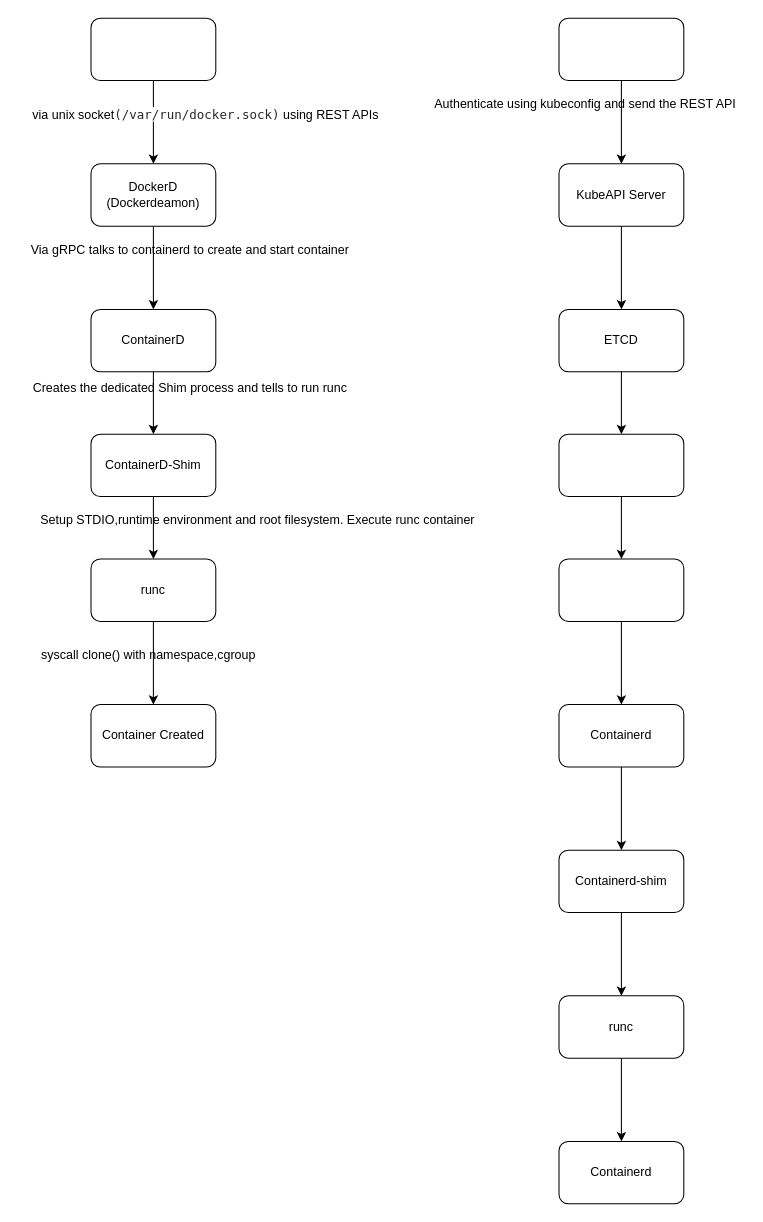
Image size: 763x1222. Some labels were removed from this diagram. Here are the shapes that lost their labels. From the top down, the centre of each, then its label:
At point 153,49: "Docker CLI".
At point 621,49: "Kubectl CLI".
At point 621,465: "KubeScheduler".
At point 621,589: "Kubelet".
